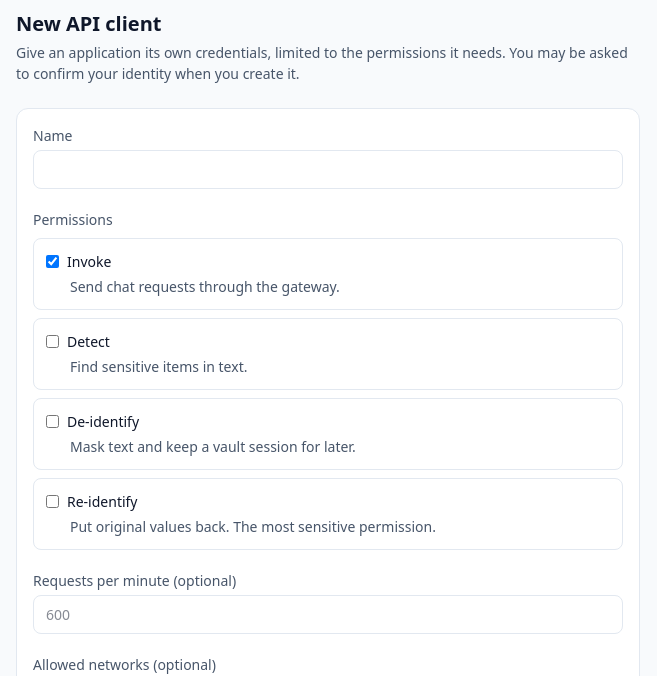
Test case: NewApiClientPage › asks for at least one permission
Click the checkbox labelled "Invoke": coordinates (52, 262) [46,255,59,268]
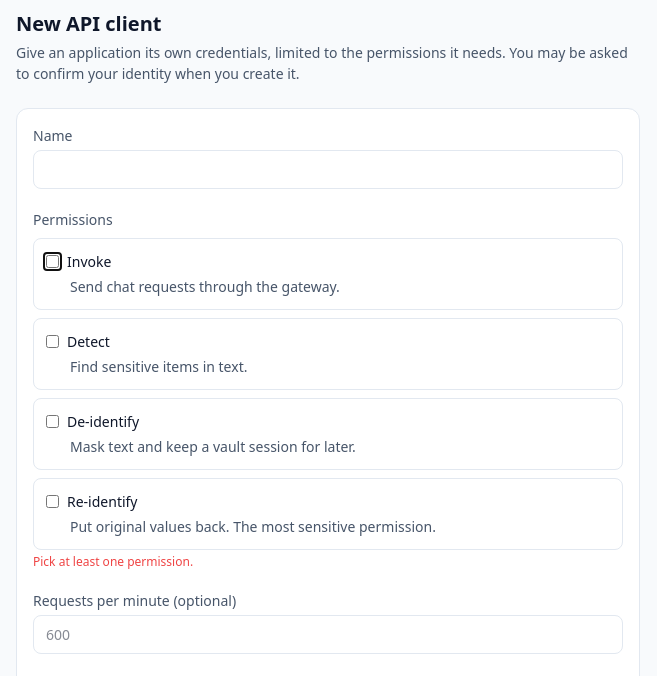
Check: the text "Pick at least one permission." is shown, box [33,553,193,570]
